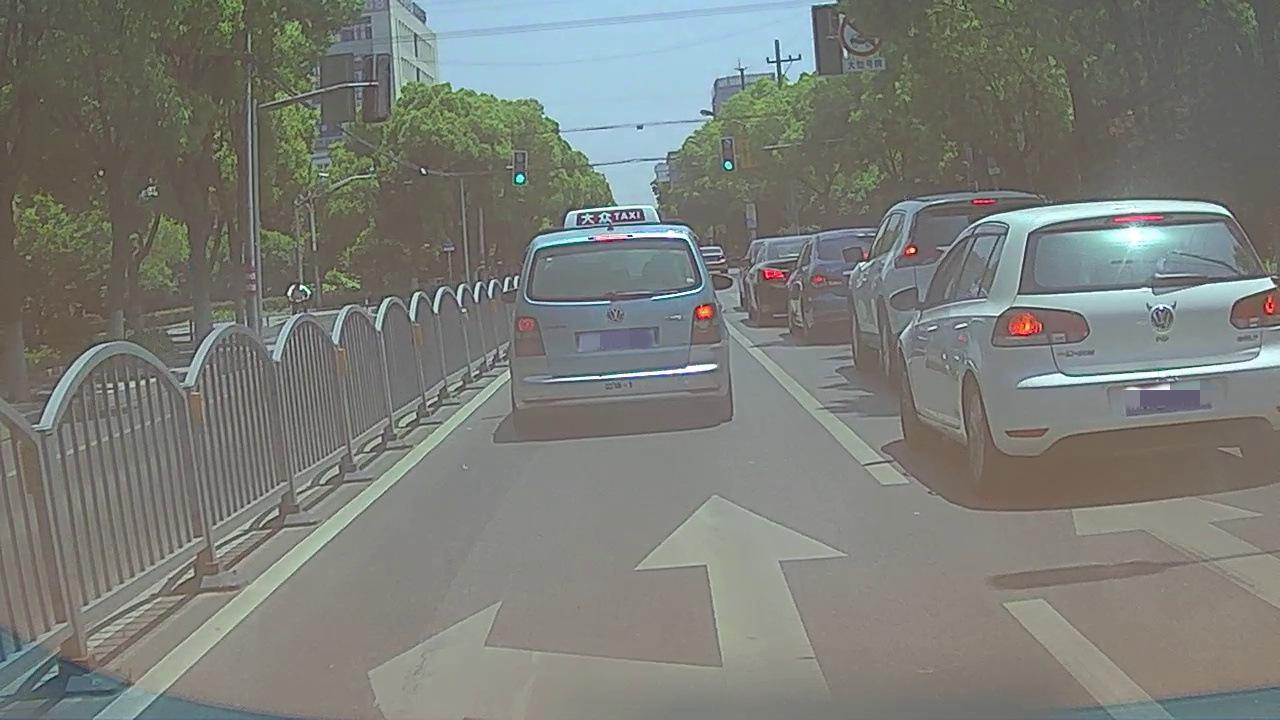traffic_light: (721, 139, 735, 171), (514, 152, 525, 185)
